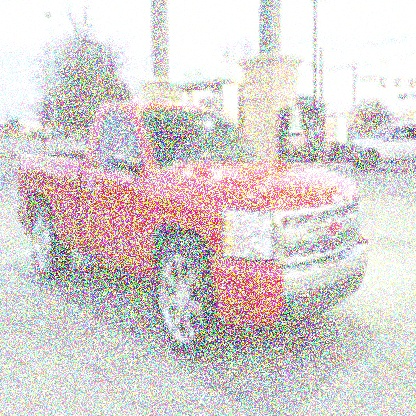Vehicle: (17, 101, 369, 358)
